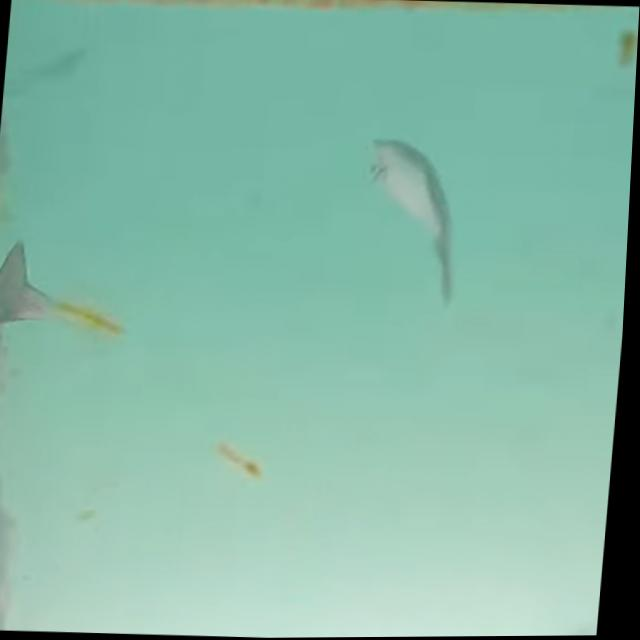fish: (351, 128, 486, 315), (0, 237, 73, 443)
